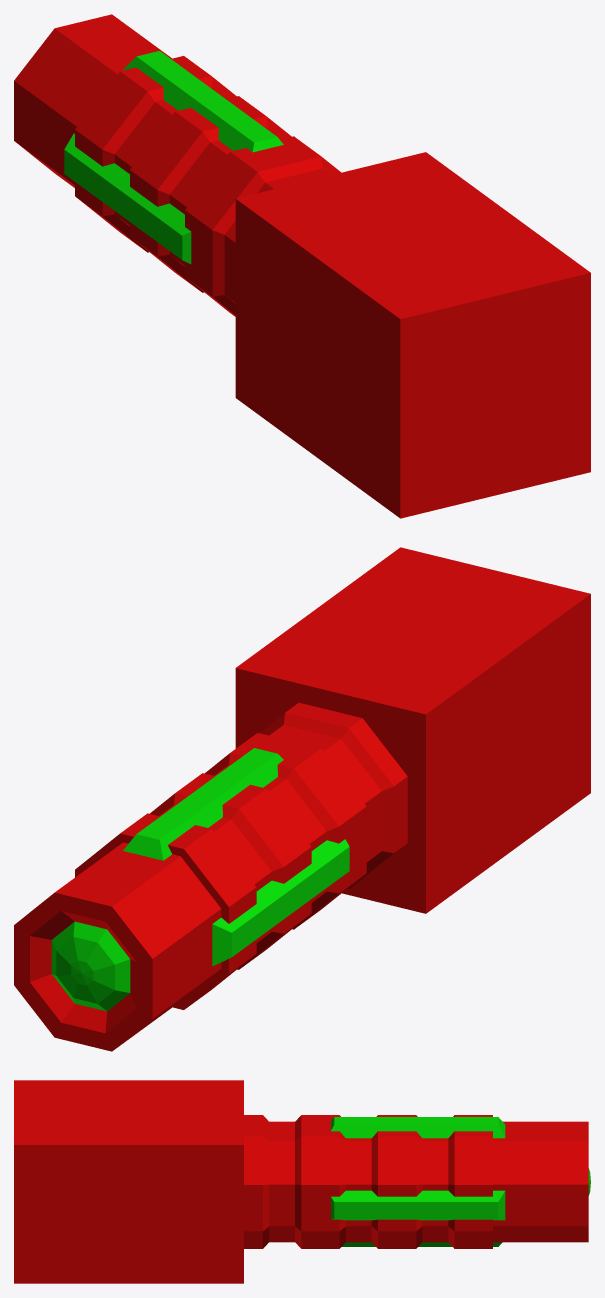
The model's file is  weapons.glb.
3 views of the same model, one above another, from view 1: azimuth 30°, elevation 25°; view 2: azimuth 150°, elevation 25°; view 3: azimuth 270°, elevation 25° (orthographic). The views are drawn at different scales.
Parts seen in each view (by area): view 1: laser_beam-small, pulse_laser-small; view 2: laser_beam-small, pulse_laser-small; view 3: laser_beam-small, pulse_laser-small.
Boxes of the visible parts, box(x1,y1,x2,y2) form: laser_beam-small: box(14, 14, 590, 518); pulse_laser-small: box(75, 56, 340, 316); laser_beam-small: box(14, 547, 590, 1051); pulse_laser-small: box(75, 668, 425, 1009); laser_beam-small: box(14, 1080, 590, 1283); pulse_laser-small: box(244, 1115, 492, 1248).
Size of the model in its own units: 0.8 by 0.8 by 3.01.
